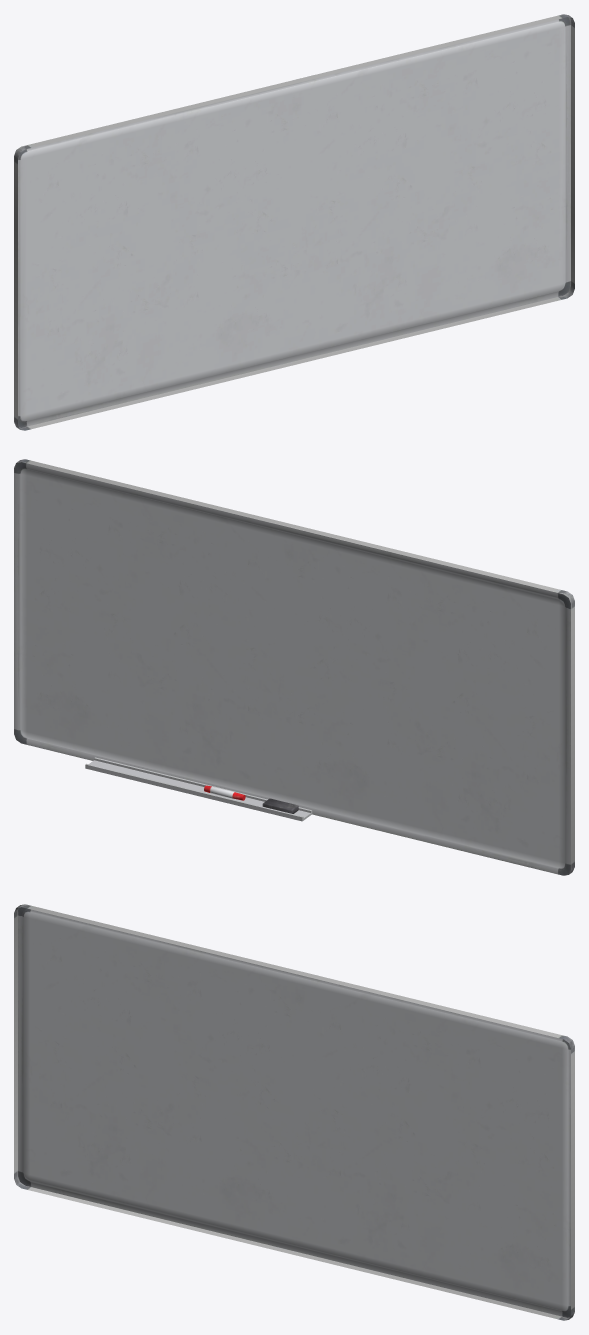
Rendered from whiteboard.glb.
3 renders of one model, top to bottom at view 1: azimuth 30°, elevation 25°; view 2: azimuth 150°, elevation 25°; view 3: azimuth 330°, elevation 25°, orthographic.
Visible parts, largest first — view 1: WhiteBoard_low; view 2: WhiteBoard_low, MarkerHolder_low; view 3: WhiteBoard_low.
Boxes of the visible parts, x1,y1,x2,y2 form: WhiteBoard_low: [14, 14, 574, 430]; WhiteBoard_low: [14, 459, 574, 875]; MarkerHolder_low: [85, 757, 312, 821]; WhiteBoard_low: [14, 904, 574, 1320].
Size of the model in its own units: 3.98 by 1.92 by 0.17.
Materials: 1 (1 with a texture image).
